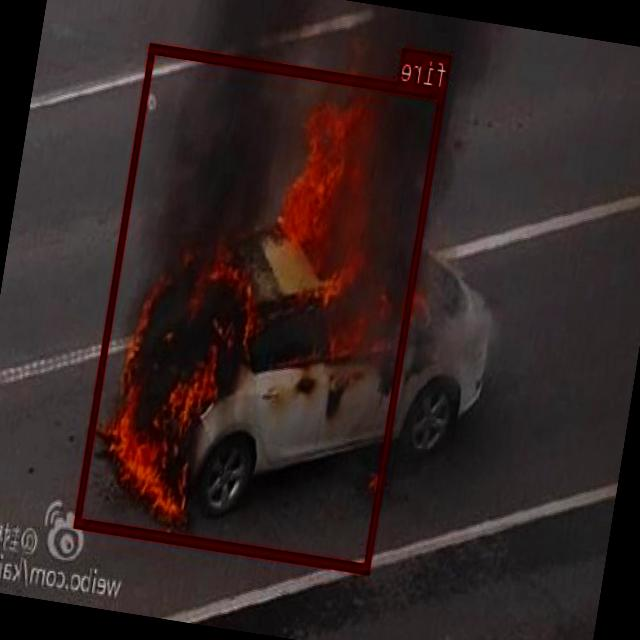fire: (75, 42, 447, 573)
